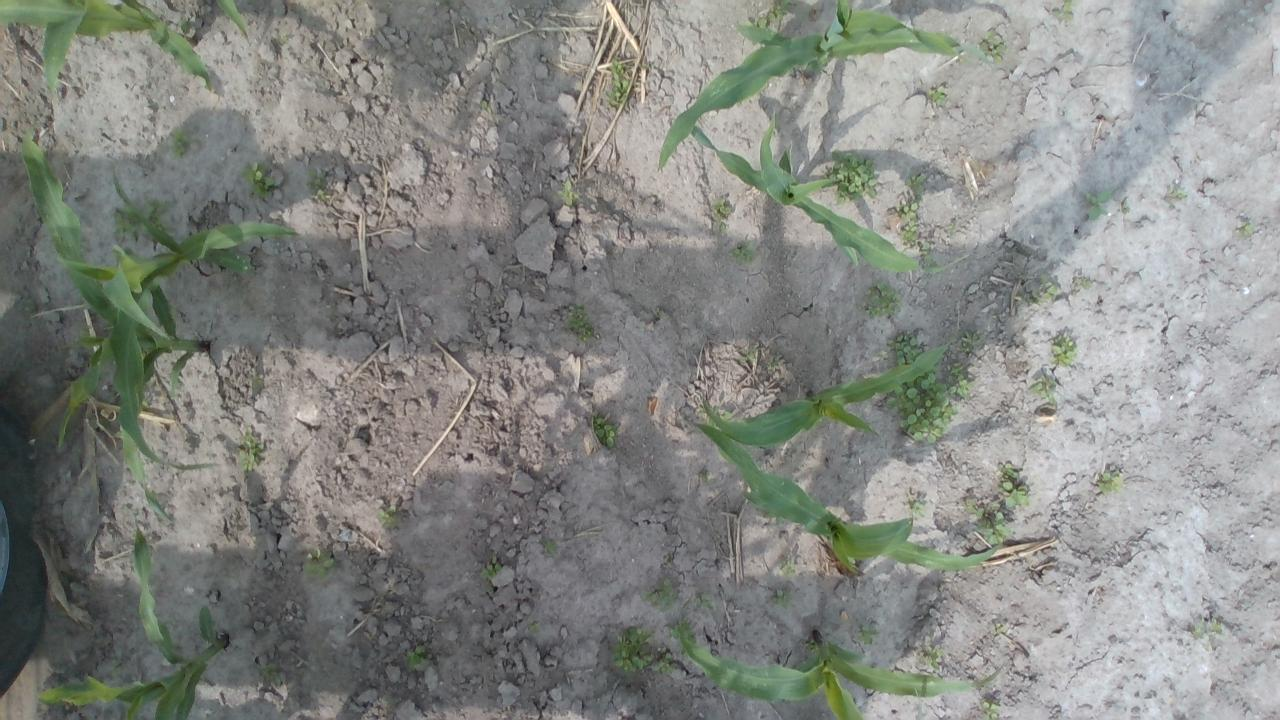Maize: (15, 125, 209, 521), (658, 0, 991, 167), (684, 413, 1006, 572), (690, 108, 972, 277), (38, 507, 230, 720), (57, 174, 298, 342), (672, 613, 1006, 720), (701, 342, 956, 448), (0, 0, 250, 105)
Weeds: (883, 366, 960, 444), (824, 150, 880, 204), (111, 197, 176, 240), (964, 497, 1016, 545), (608, 626, 654, 674), (994, 462, 1030, 510), (738, 0, 796, 28), (862, 282, 902, 320), (238, 160, 275, 199), (886, 330, 922, 367), (643, 576, 680, 611), (895, 202, 920, 250), (604, 62, 630, 108), (236, 431, 264, 471), (669, 616, 696, 656), (947, 362, 975, 400), (977, 30, 1008, 64), (566, 303, 593, 341), (300, 548, 334, 578), (1049, 333, 1079, 366), (592, 414, 617, 450), (1024, 280, 1058, 306), (167, 127, 192, 160), (1028, 376, 1058, 402), (1096, 468, 1122, 496), (1188, 616, 1222, 636), (72, 321, 96, 349), (1085, 190, 1109, 218), (305, 169, 326, 201), (376, 502, 400, 529), (728, 240, 752, 266), (902, 170, 924, 198), (556, 180, 578, 206), (404, 645, 430, 666), (480, 556, 502, 579), (958, 330, 981, 352), (710, 198, 732, 220), (918, 242, 938, 266), (772, 589, 794, 610), (1052, 0, 1074, 21), (924, 646, 944, 669), (18, 296, 38, 316), (982, 700, 1002, 720), (694, 592, 716, 610), (908, 500, 929, 518), (928, 84, 946, 105), (655, 651, 672, 673), (261, 662, 280, 681), (860, 626, 880, 644), (234, 253, 254, 271), (542, 538, 560, 557), (712, 404, 732, 421), (247, 371, 265, 389), (778, 560, 798, 576), (798, 638, 818, 654), (1072, 276, 1093, 290), (1237, 222, 1255, 236), (110, 660, 124, 678), (178, 15, 190, 34), (1168, 190, 1189, 200), (478, 100, 492, 112), (1120, 197, 1130, 213), (528, 622, 542, 632), (716, 222, 728, 232), (743, 351, 753, 362)
